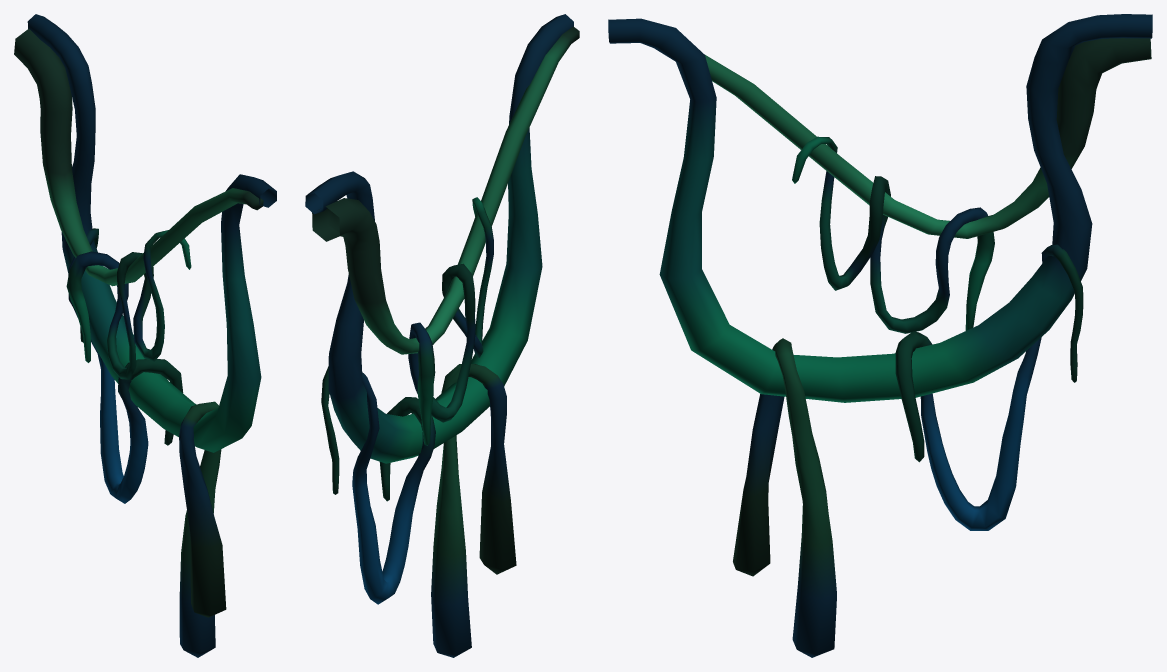
The model's file is Alien_SkyRoot01.fbx.
The picture shows the model from 3 angles, left to right: view 1: azimuth 30°, elevation 25°; view 2: azimuth 150°, elevation 25°; view 3: azimuth 270°, elevation 25°; orthographic projection. The views are drawn at different scales.
Visible parts, largest first — view 1: Alien_SkyRoot01; view 2: Alien_SkyRoot01; view 3: Alien_SkyRoot01.
Part boxes in pixels (<box>): Alien_SkyRoot01: <box>14,14,276,657</box>; Alien_SkyRoot01: <box>305,14,579,657</box>; Alien_SkyRoot01: <box>608,14,1152,657</box>.
Bounding box in the file's own units: 1857 × 11979 × 9320.
